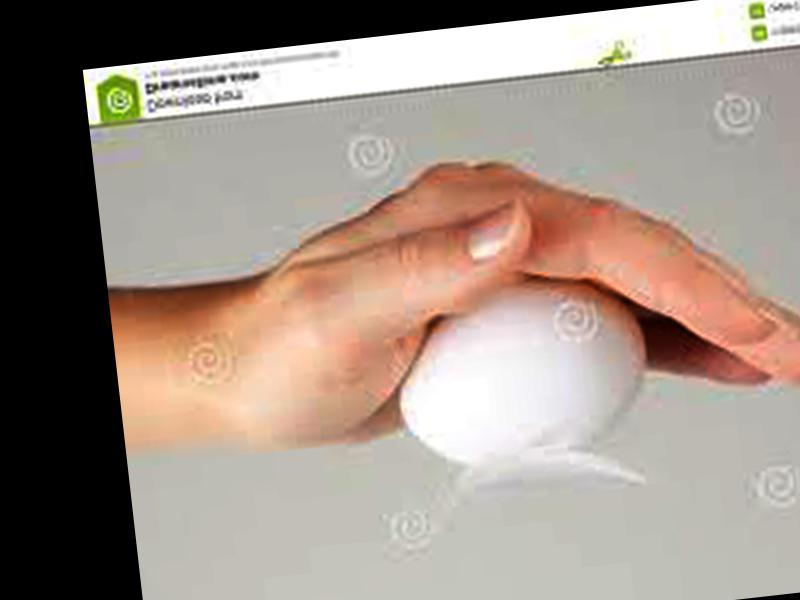Eggs: (385, 269, 660, 470)
